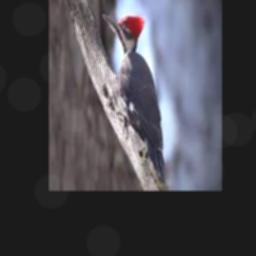Woodpecker: (103, 14, 165, 181)
